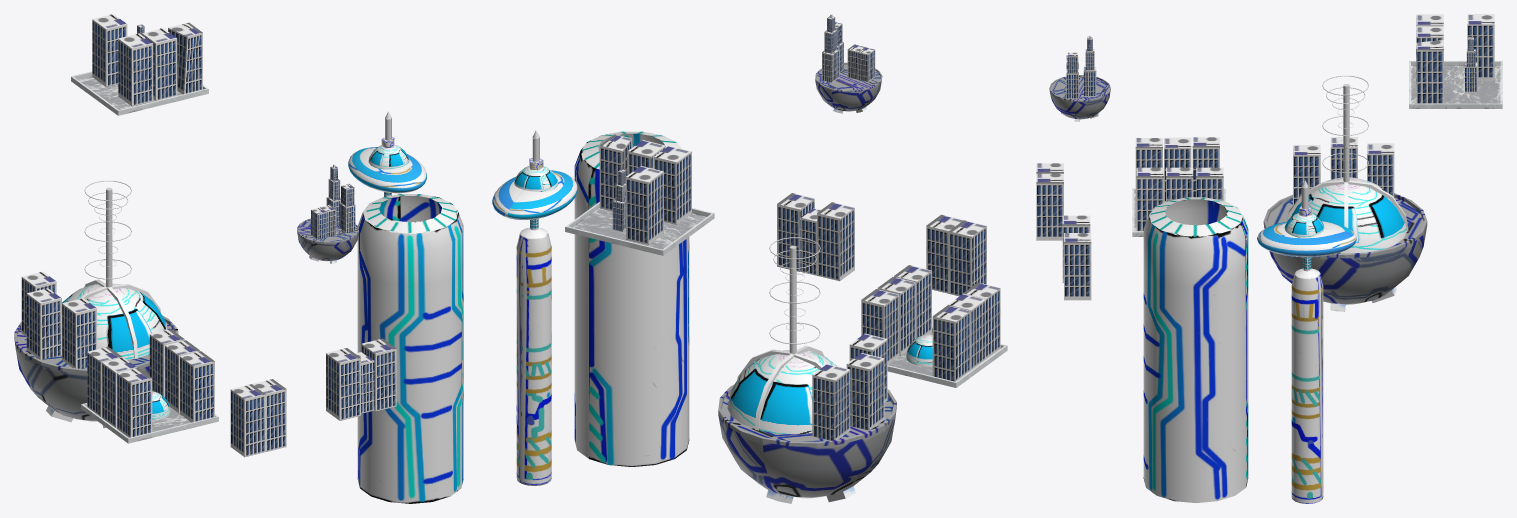
File: SAMPLE ADAME.fbx
3 renders of one model, left to right at view 1: azimuth 30°, elevation 25°; view 2: azimuth 150°, elevation 25°; view 3: azimuth 270°, elevation 25°, orthographic. The views are drawn at different scales.
Parts seen in each view (by area): view 1: TOUR TROU, plateforme000, spheremaison, IMMEUBLE003, IMMEUBLE017, IMMEUBLE009, IMMEUBLE019, IMMEUBLE014, IMMEUBLE013, IMMEUBLE010, soucoupe, IMMEUBLE004 (+16 smaller); view 2: TOUR TROU, plateforme000, TOURMINI, spheremaison, PLATEFORME BETON, IMMEUBLE008, IMMEUBLE004, IMMEUBLE019, IMMEUBLE016, soucoupe, IMMEUBLE009, IMMEUBLE017 (+18 smaller); view 3: TOUR TROU, TOURMINI, plateforme000, spheremaison, PLATEFORME BETON, soucoupe, IMMEUBLE021, IMMEUBLE018, IMMEUBLE001, plateforme001, IMMEUBLE004, IMMEUBLE013 (+11 smaller).
Boxes of the visible parts, box(x1,y1,x2,y2) form: TOUR TROU: box(357, 194, 463, 503); plateforme000: box(14, 316, 178, 428); spheremaison: box(62, 283, 167, 359); IMMEUBLE003: box(118, 33, 153, 106); IMMEUBLE017: box(230, 384, 265, 457); IMMEUBLE009: box(26, 288, 61, 359); IMMEUBLE019: box(326, 348, 360, 420); IMMEUBLE014: box(117, 368, 152, 437); IMMEUBLE013: box(180, 351, 214, 422); IMMEUBLE010: box(62, 298, 96, 368); soucoupe: box(348, 147, 426, 193); IMMEUBLE004: box(92, 14, 127, 86); TOUR TROU: box(574, 131, 689, 466); plateforme000: box(718, 384, 896, 503); TOURMINI: box(516, 227, 551, 485); spheremaison: box(727, 350, 836, 434); PLATEFORME BETON: box(565, 202, 714, 255); IMMEUBLE008: box(812, 364, 850, 440); IMMEUBLE004: box(626, 166, 663, 244); IMMEUBLE019: box(817, 202, 854, 281); IMMEUBLE016: box(932, 305, 970, 381); soucoupe: box(492, 170, 577, 220); IMMEUBLE009: box(846, 353, 884, 430); IMMEUBLE017: box(949, 220, 986, 296); TOUR TROU: box(1143, 197, 1248, 502); TOURMINI: box(1291, 268, 1323, 503); plateforme000: box(1263, 193, 1427, 311); spheremaison: box(1291, 177, 1406, 253); PLATEFORME BETON: box(1409, 61, 1502, 108); soucoupe: box(1257, 221, 1356, 257); IMMEUBLE021: box(1064, 233, 1091, 300); IMMEUBLE018: box(1036, 173, 1063, 240); IMMEUBLE001: box(1416, 40, 1443, 103); plateforme001: box(1049, 75, 1110, 121); IMMEUBLE004: box(1467, 14, 1494, 81); IMMEUBLE013: box(1136, 167, 1163, 231).
Bounding box in the file's own units: 18088 × 19568 × 17912.
